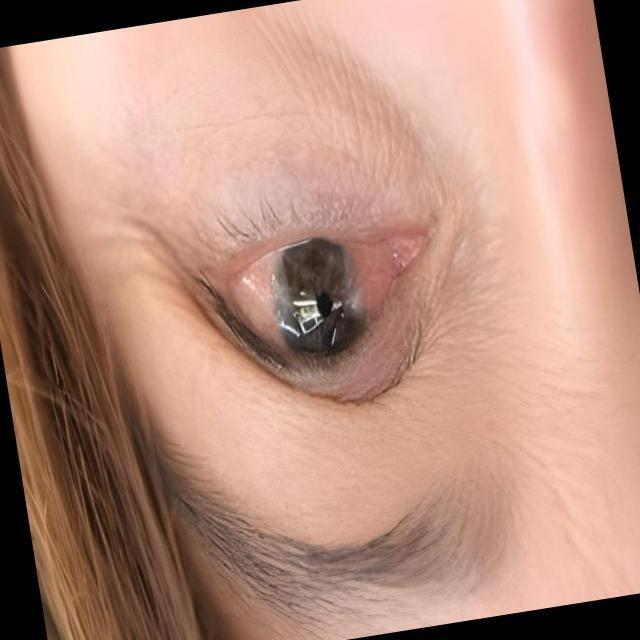Pterygium: (329, 227, 422, 323), (222, 250, 293, 354)
